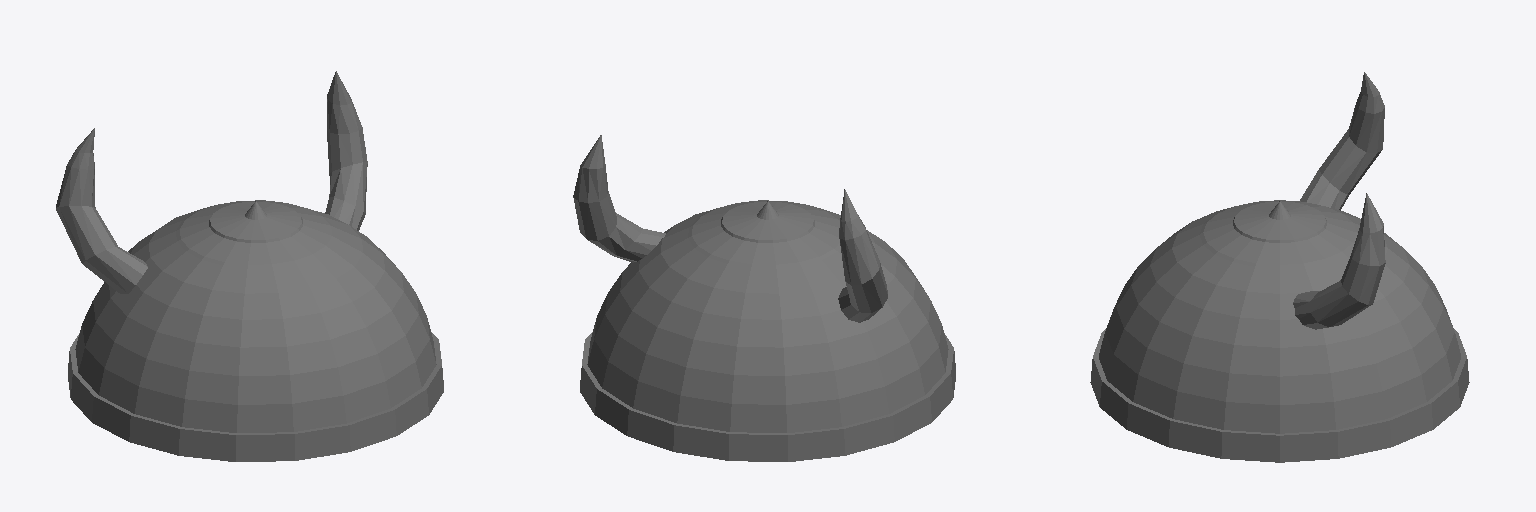
The model's file is pasted__viking_helm.obj.
3 views of the same model, side by side, from view 1: azimuth 30°, elevation 25°; view 2: azimuth 150°, elevation 25°; view 3: azimuth 270°, elevation 25° (orthographic).
Parts seen in each view (by area): view 1: pasted__viking_helm group8; view 2: pasted__viking_helm group8; view 3: pasted__viking_helm group8.
Boxes of the visible parts, <box> form: pasted__viking_helm group8: <box>56,71,443,461</box>; pasted__viking_helm group8: <box>573,135,955,461</box>; pasted__viking_helm group8: <box>1090,72,1469,462</box>.
Bounding box in the file's own units: 0.2836 × 0.2099 × 0.2836.